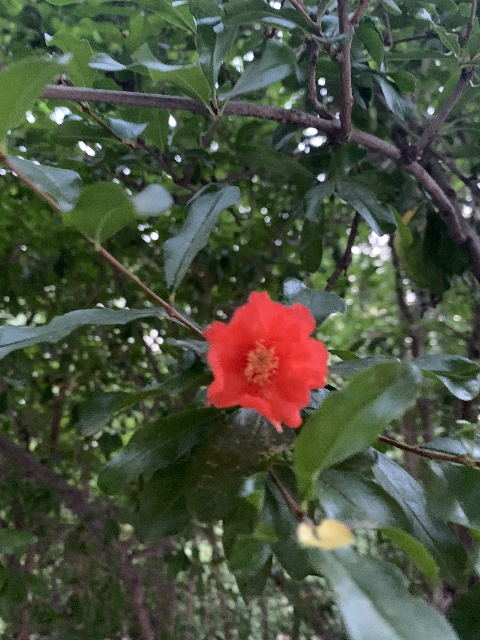flower: (202, 291, 328, 433)
